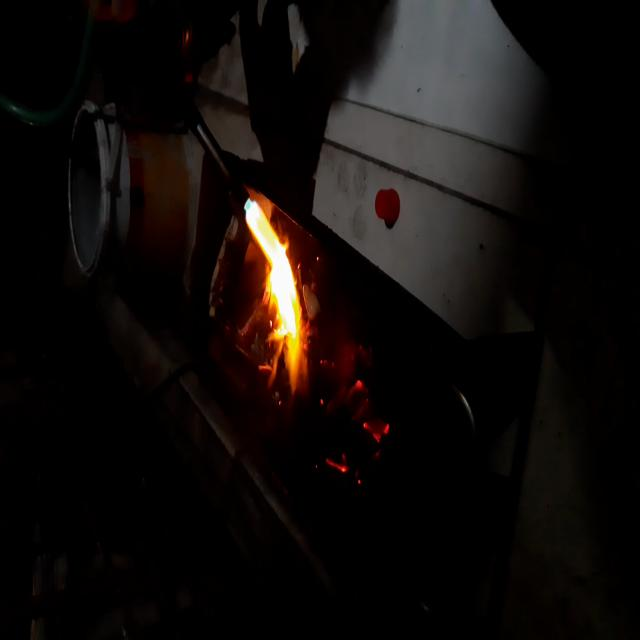Fire: (239, 184, 313, 396), (319, 342, 397, 492)
